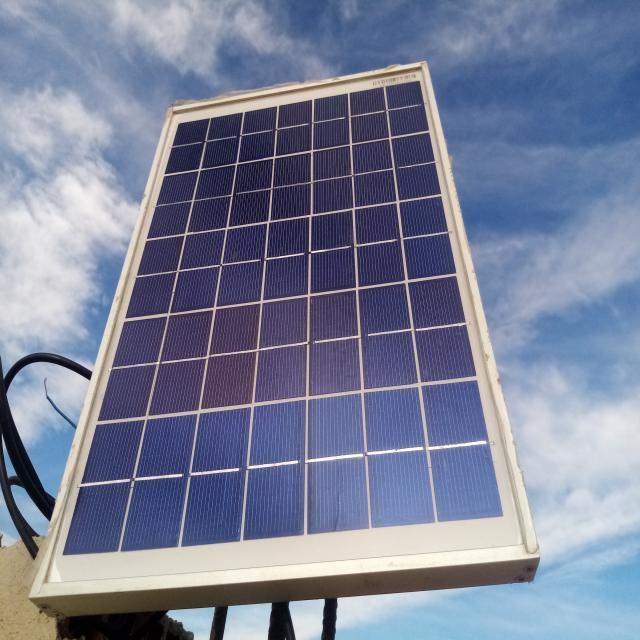Normal Solar Panel: (37, 62, 534, 593)
